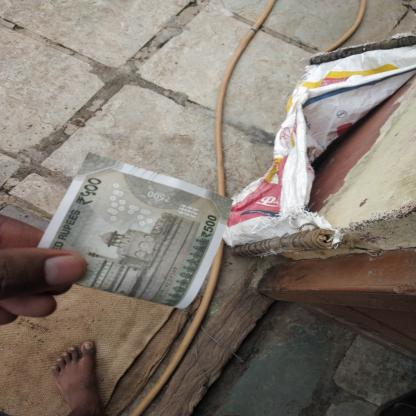New500Back: (49, 159, 224, 305)
